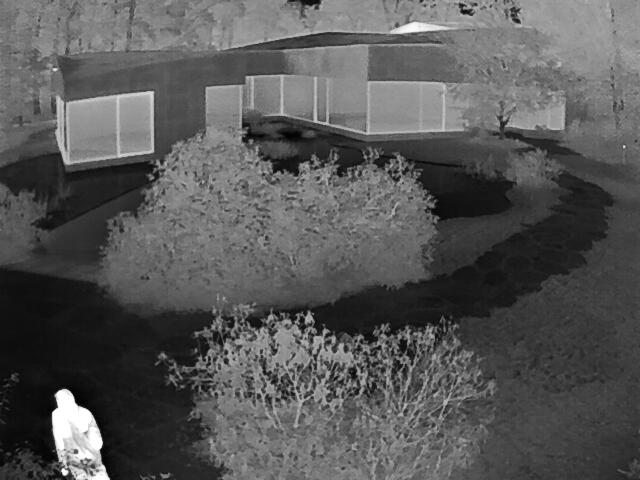person: (49, 389, 110, 476)
